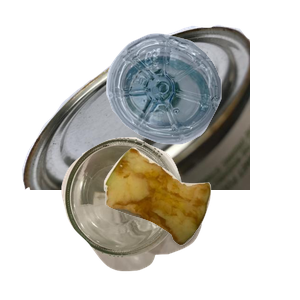glass: (59, 135, 254, 300)
metal: (19, 22, 259, 202)
plastic: (104, 31, 300, 168)
trash: (101, 145, 300, 300)
